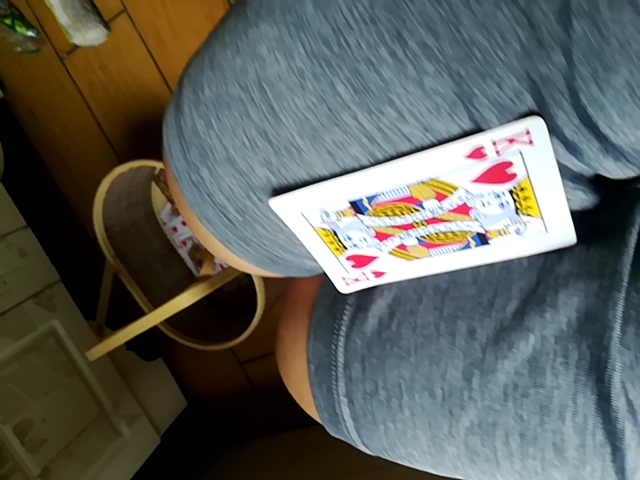hx k: (269, 118, 581, 295)
